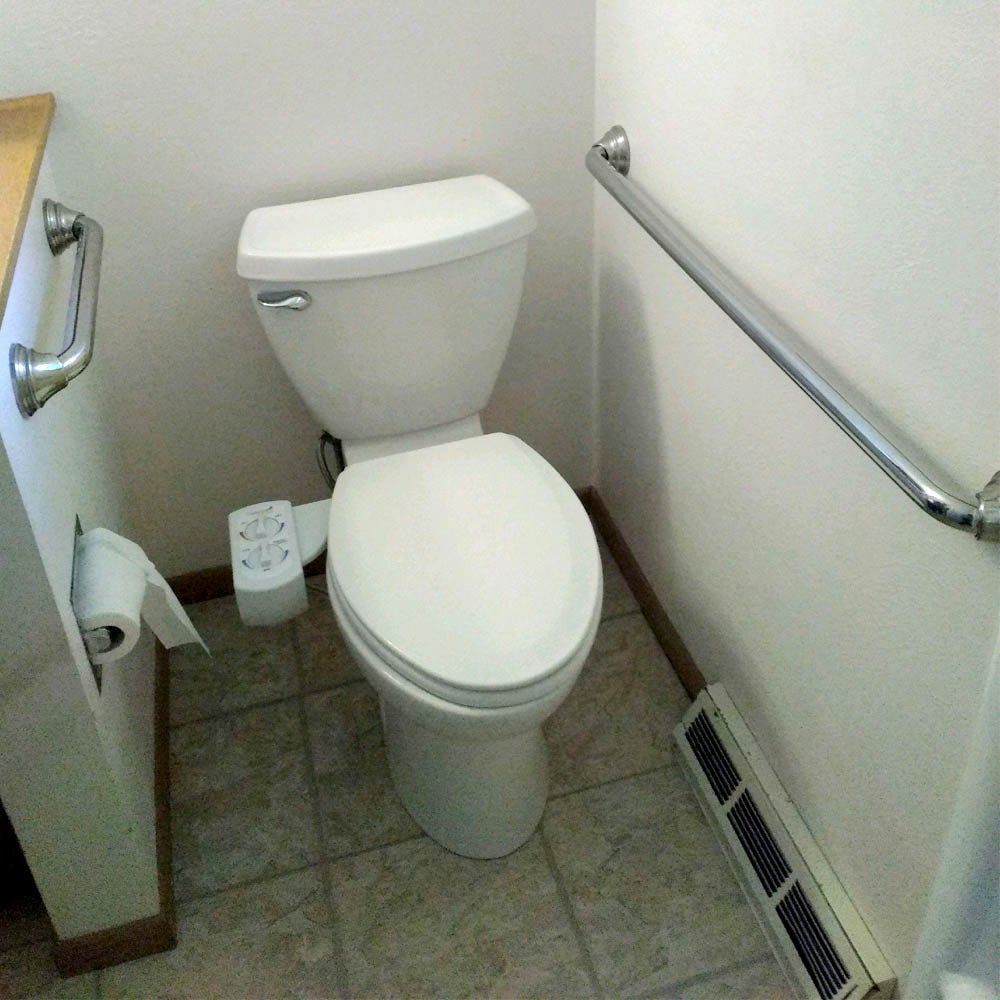dispenser: (62, 508, 215, 684)
restroom_assist_bar: (580, 126, 1000, 545), (5, 192, 104, 420)
toilet: (224, 171, 604, 862)
toilet_handle: (251, 285, 322, 318)
